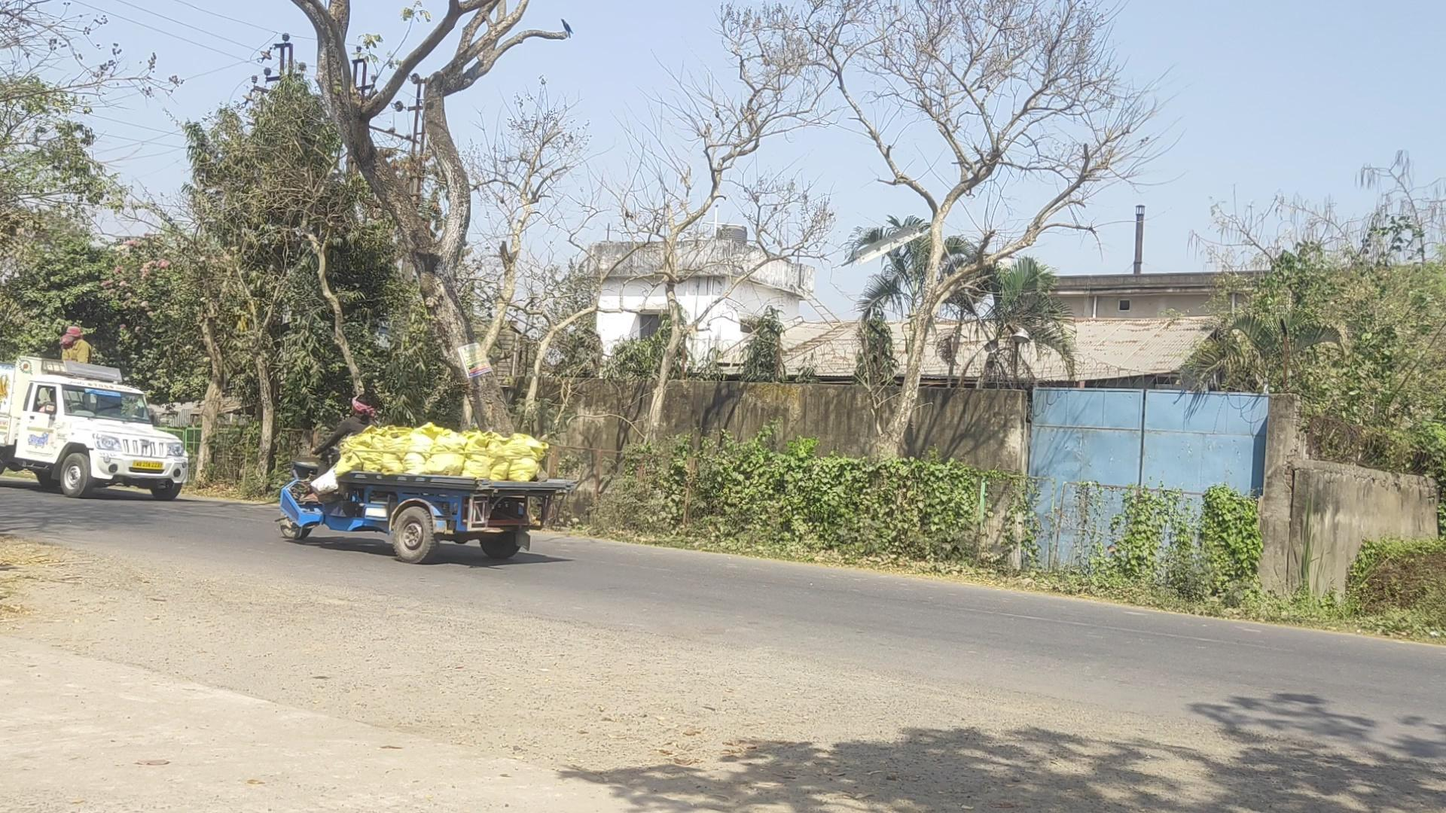van: (1, 326, 189, 501)
